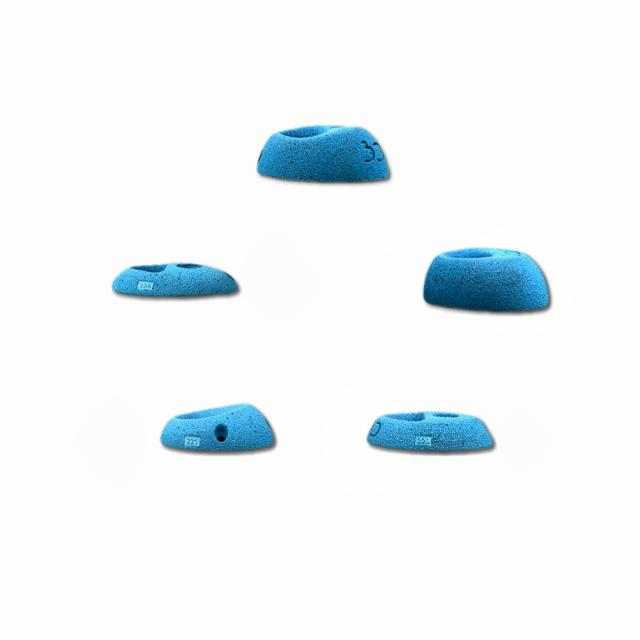Hold: (257, 123, 390, 185), (426, 244, 548, 311), (154, 405, 279, 452), (371, 412, 494, 455), (109, 260, 242, 296)
